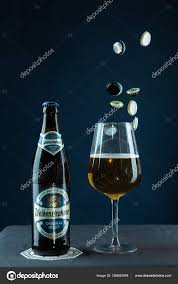beer: (33, 103, 69, 254)
